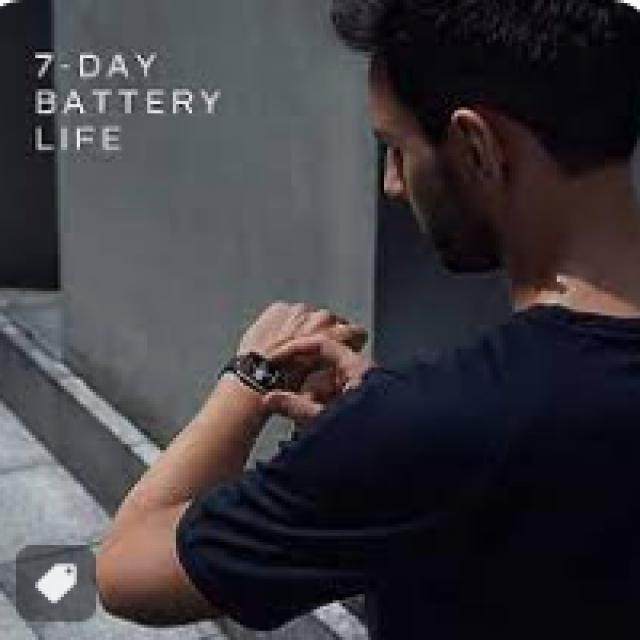Watch: (218, 351, 292, 396)
